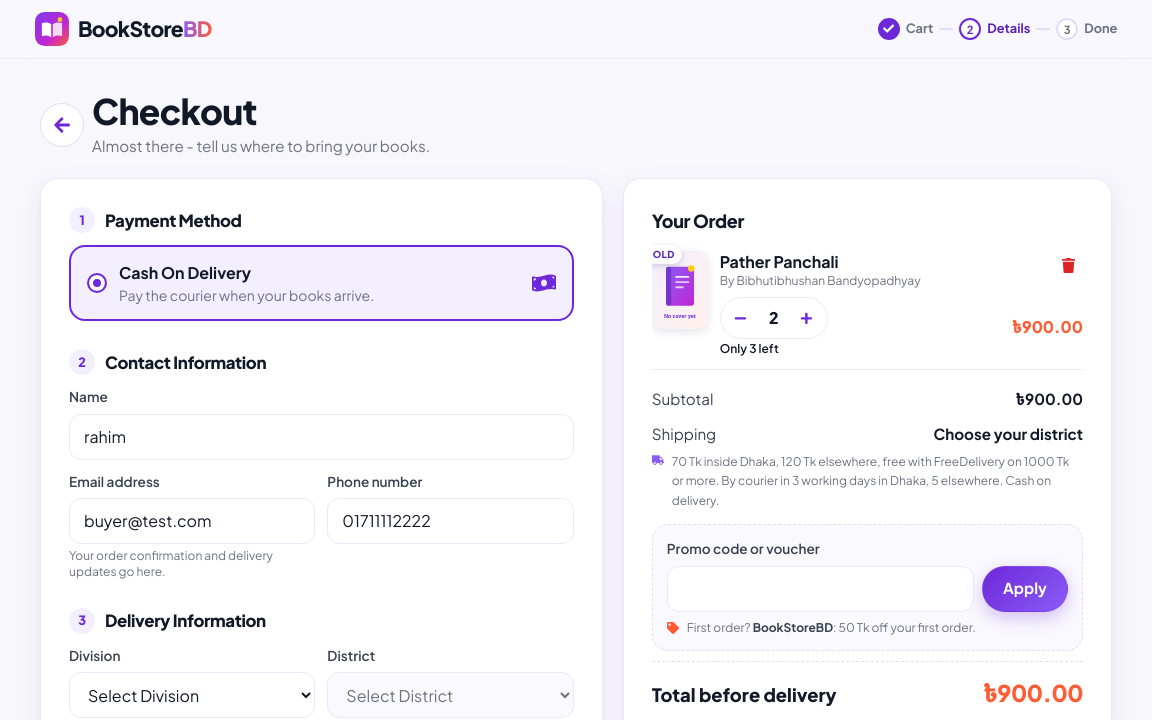
it: the total › says it is before delivery until a district is chosen
Expected: the field showing "rahim" is shown, [69, 414, 574, 460]
Expected: the text "Total before delivery" is shown, [652, 681, 837, 708]
Select "Dhaka" in the dropdown labelled "Division" at (192, 695), box [69, 672, 315, 718]
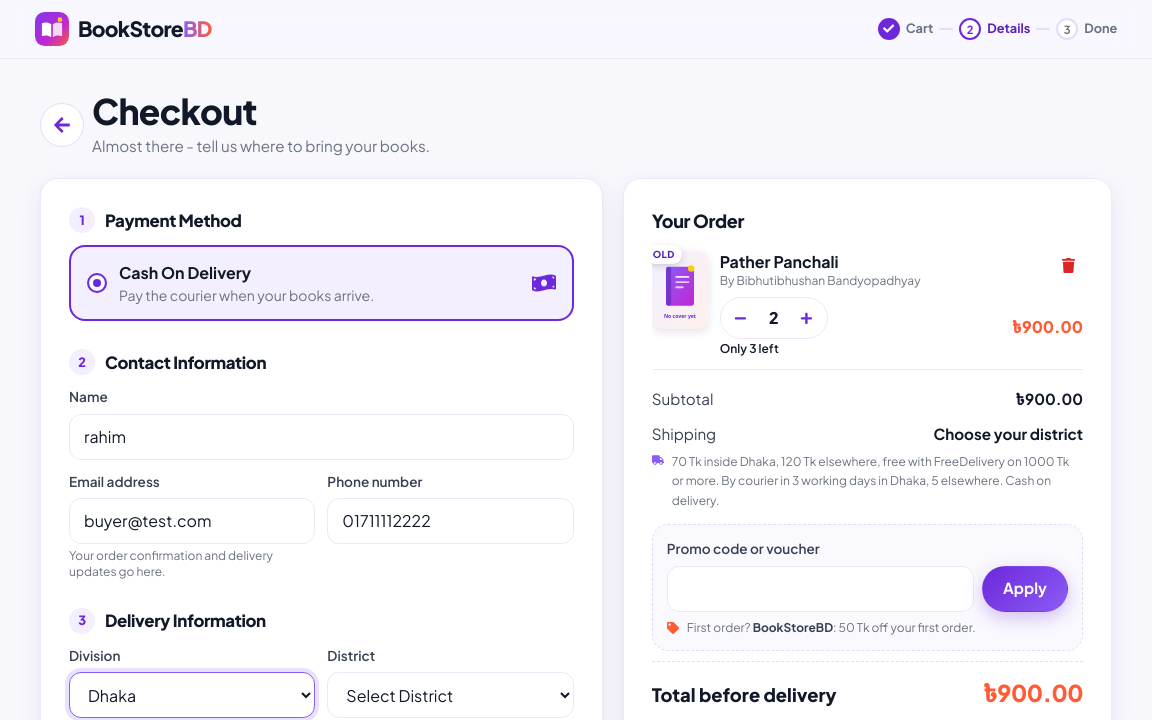
Select "Dhaka" in the dropdown labelled "District" at (450, 695), box [327, 672, 574, 718]
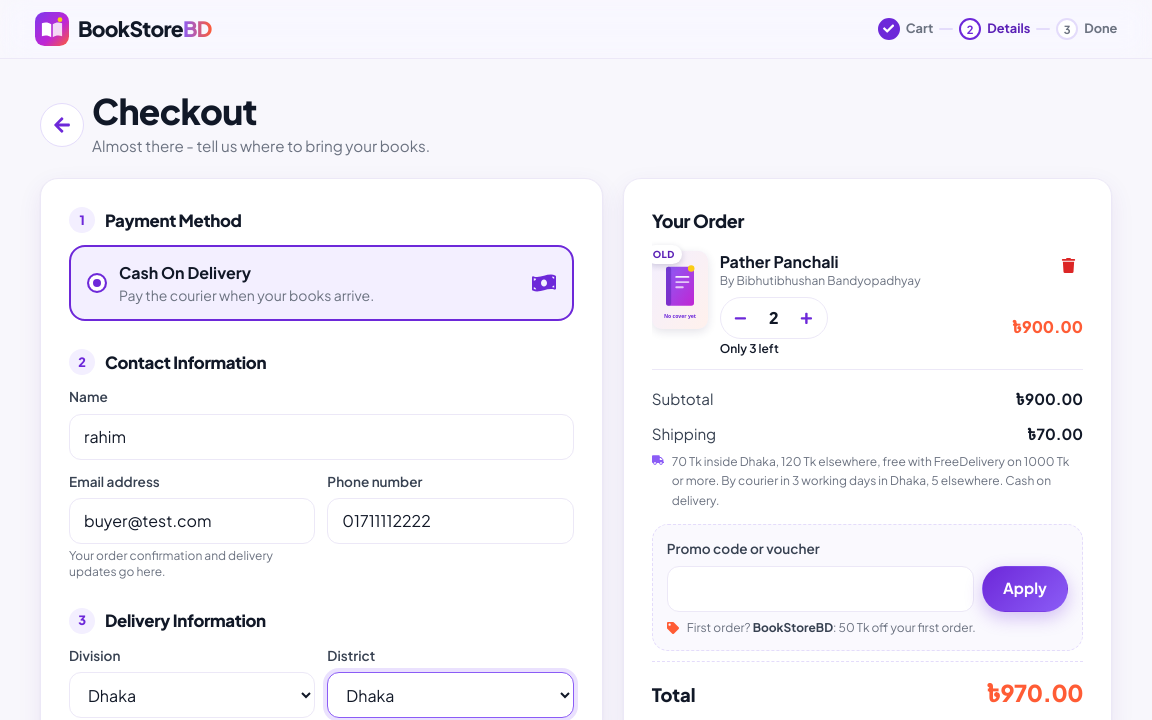
Now the text "Total before delivery" is gone
